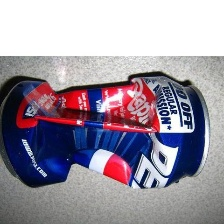can: (0, 71, 211, 189)
